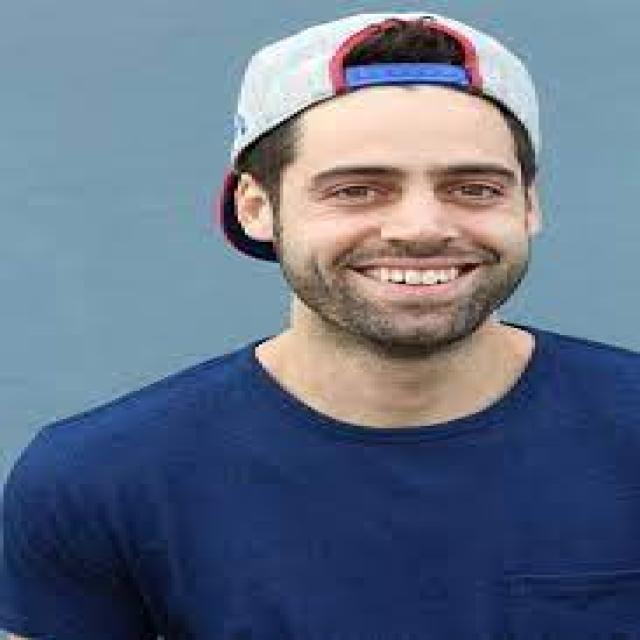cap: (175, 0, 572, 171)
